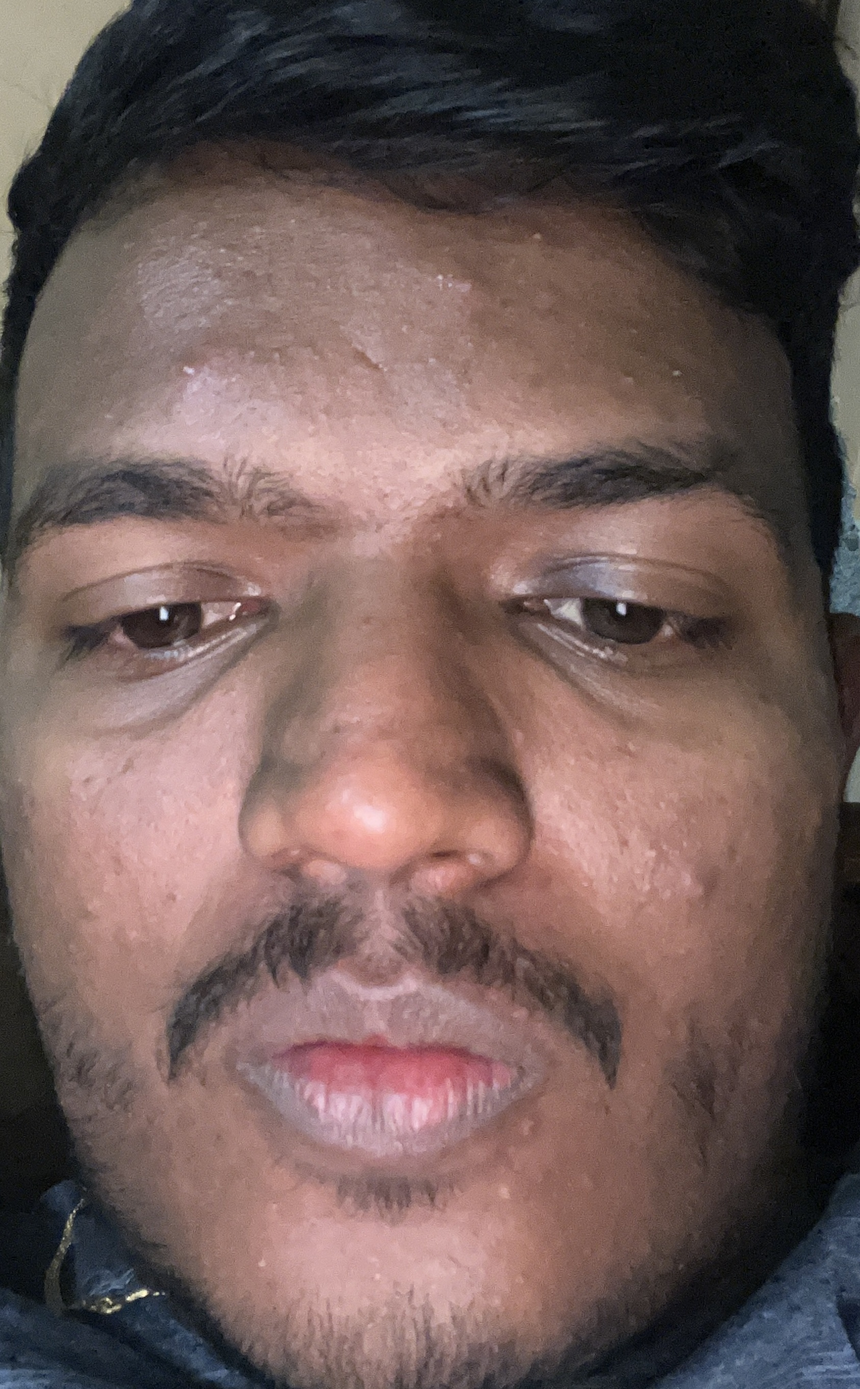papule: (663, 863, 736, 911)
pustule: (413, 253, 495, 317), (601, 352, 699, 405), (502, 221, 587, 269), (161, 352, 230, 405)
